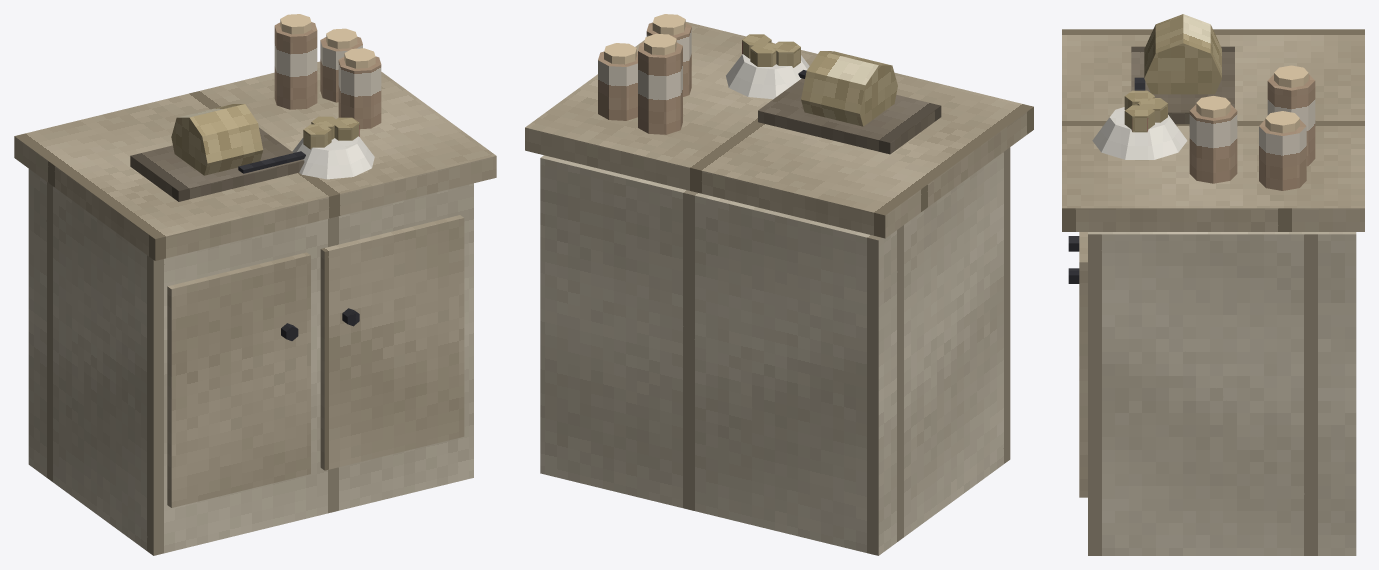
File: kitchen_counter.obj
The picture shows the model from 3 angles, left to right: view 1: azimuth 30°, elevation 25°; view 2: azimuth 150°, elevation 25°; view 3: azimuth 270°, elevation 25°; orthographic projection. The views are drawn at different scales.
Parts seen in each view (by area): view 1: kitchen_counter; view 2: kitchen_counter; view 3: kitchen_counter.
Part boxes in pixels (left/top/right/bottom): kitchen_counter: left=14, top=14, right=496, bottom=555; kitchen_counter: left=525, top=14, right=1033, bottom=555; kitchen_counter: left=1062, top=14, right=1364, bottom=555.
Size of the model in its own units: 0.98 by 1.12 by 0.7.
